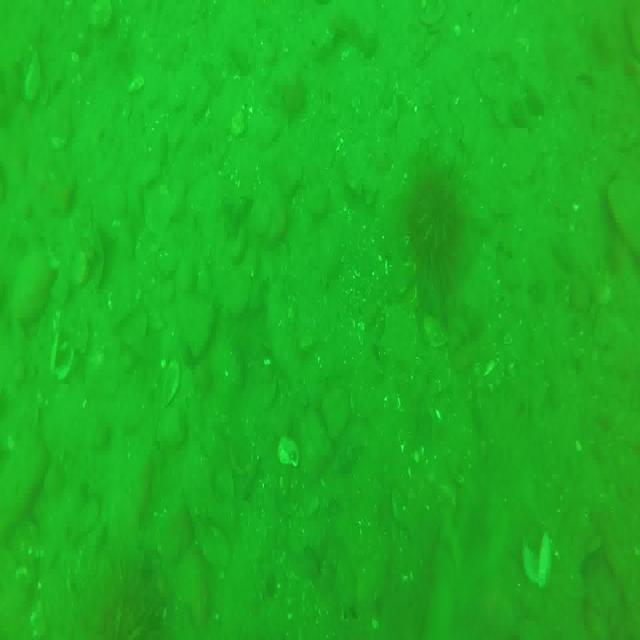echinus: (102, 556, 180, 640), (408, 164, 470, 264)
scallop: (520, 536, 554, 584), (48, 333, 76, 383)
